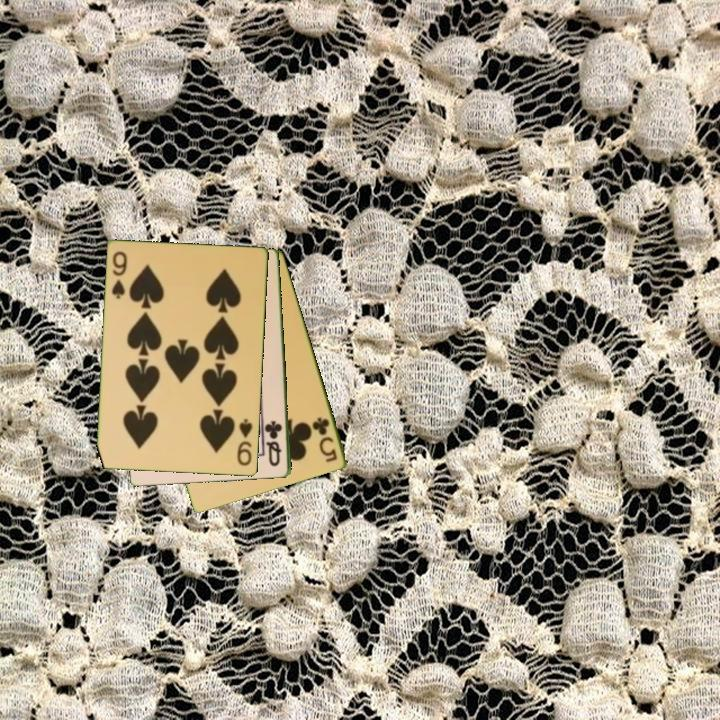5c: (309, 413, 340, 465)
9s: (108, 248, 130, 302), (234, 416, 255, 469)
Qc: (262, 417, 285, 470)
